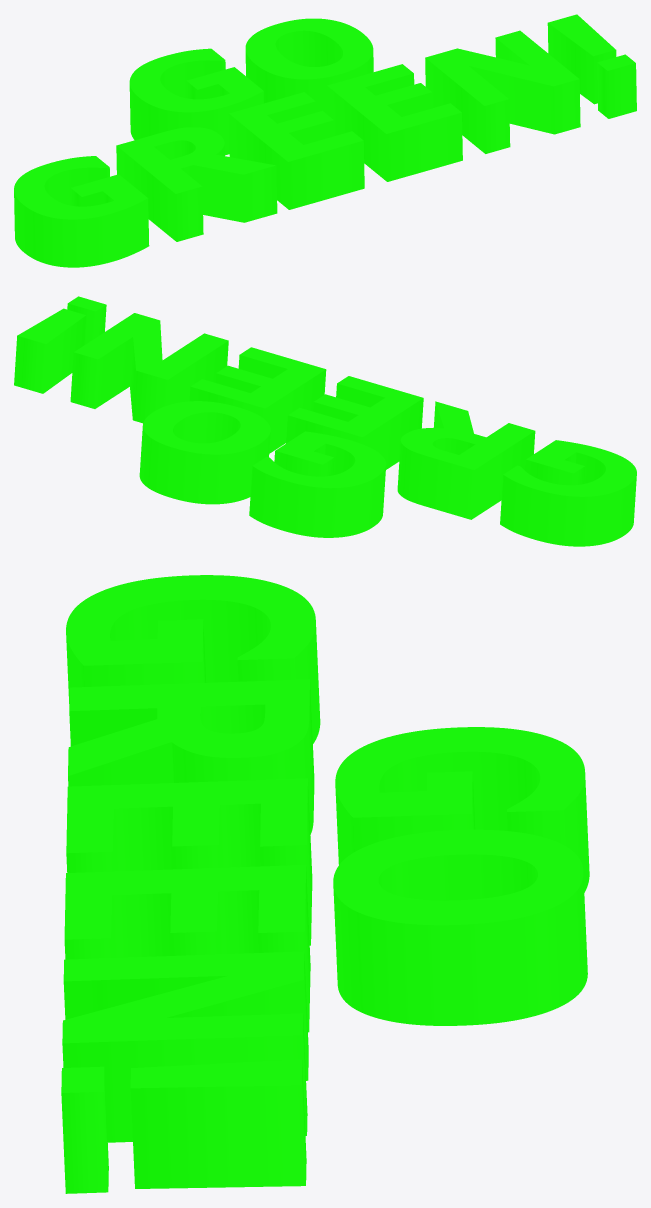
Rendered from gogreen.glb.
3 renders of one model, top to bottom at view 1: azimuth 30°, elevation 25°; view 2: azimuth 150°, elevation 25°; view 3: azimuth 270°, elevation 25°, orthographic. The views are drawn at different scales.
Parts seen in each view (by area): view 1: Text; view 2: Text; view 3: Text.
Part boxes in pixels (x1,y1,x2,y2): Text: (14,14,636,267); Text: (14,296,636,546); Text: (61,575,589,1193).
Bounding box in the file's own units: 2.96 × 0.3833 × 1.16.
